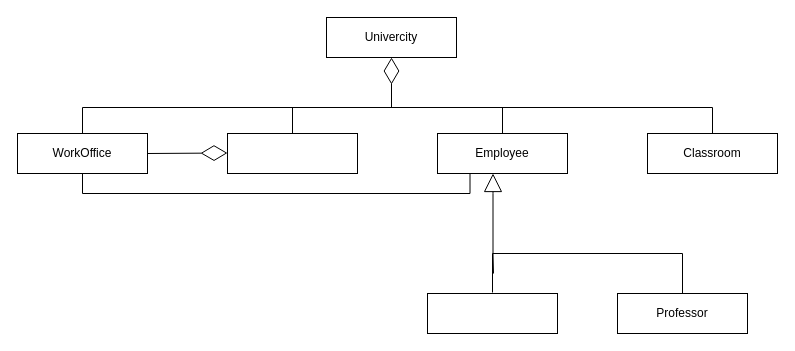
This 795x351 diagram has some shape labels left out. The shapes that lost their labels are listed below. From the top down, each one's centre as x and y in pixels, then its label:
pixel 292 153: Department
pixel 492 313: CivilServant
